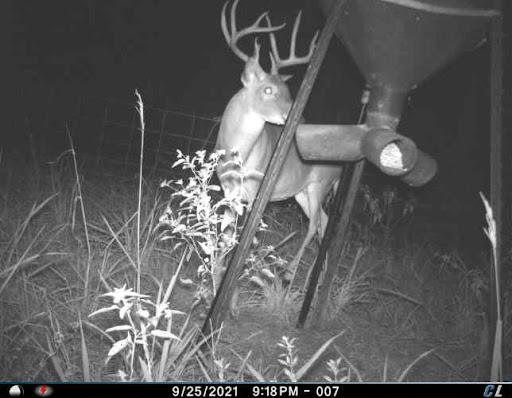Deer: (202, 0, 348, 299)
